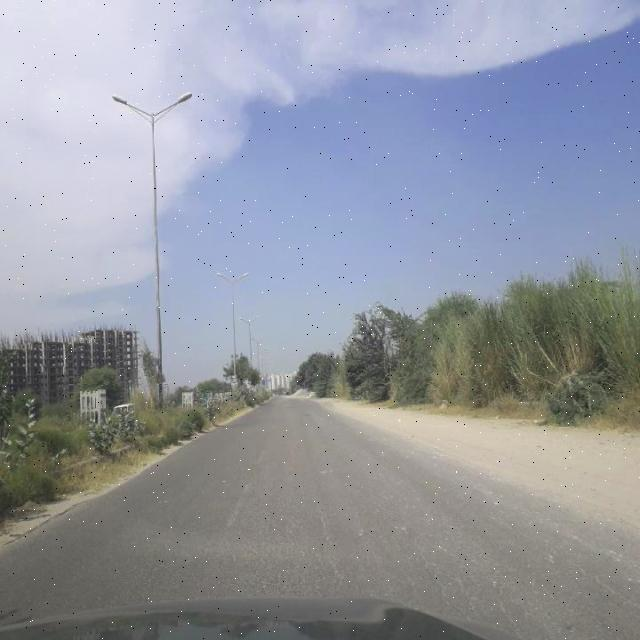D00: (311, 468, 342, 580), (572, 553, 628, 612), (492, 580, 526, 633), (433, 558, 467, 611)
D20: (155, 462, 633, 598)
D44: (224, 470, 253, 528), (255, 438, 276, 468)
